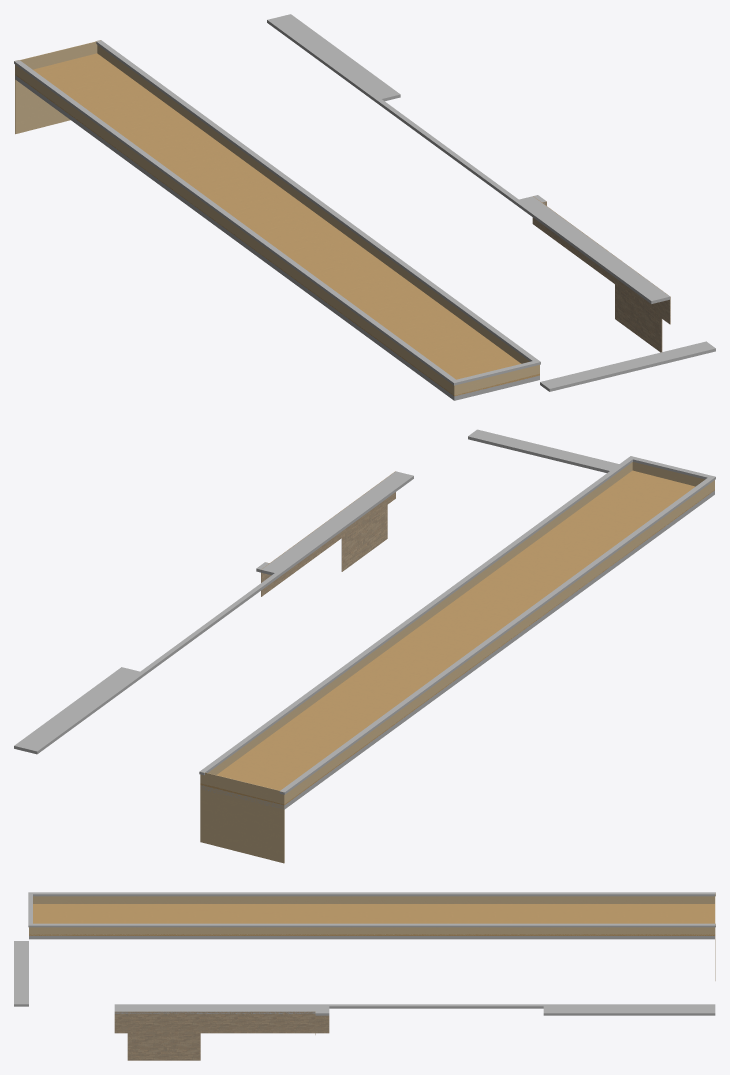
File: roof-bundle-service-north.glb
The picture shows the model from 3 angles, top to bottom: view 1: azimuth 30°, elevation 25°; view 2: azimuth 150°, elevation 25°; view 3: azimuth 270°, elevation 25°; orthographic projection. The views are drawn at different scales.
Parts seen in each view (by area): view 1: bz06_faded_ochre-receive, ph_bz04_stone_trim_sandstone-cast, bz06_sand_plaster-cast, bz06_service_stone-cast; view 2: bz06_faded_ochre-receive, ph_bz04_stone_trim_sandstone-cast, bz06_sand_plaster-cast, bz06_service_stone-cast; view 3: ph_bz04_stone_trim_sandstone-cast, bz06_faded_ochre-receive, bz06_sand_plaster-cast, bz06_service_stone-cast.
Boxes of the visible parts, left/top/right/bottom form: bz06_faded_ochre-receive: left=15, top=53, right=539, bottom=396; ph_bz04_stone_trim_sandstone-cast: left=14, top=14, right=715, bottom=400; bz06_sand_plaster-cast: left=15, top=40, right=539, bottom=395; bz06_service_stone-cast: left=532, top=196, right=670, bottom=352; bz06_faded_ochre-receive: left=200, top=470, right=714, bottom=805; ph_bz04_stone_trim_sandstone-cast: left=14, top=429, right=715, bottom=809; bz06_sand_plaster-cast: left=200, top=462, right=714, bottom=863; bz06_service_stone-cast: left=261, top=471, right=395, bottom=596; ph_bz04_stone_trim_sandstone-cast: left=14, top=892, right=715, bottom=1015; bz06_faded_ochre-receive: left=29, top=904, right=715, bottom=935; bz06_sand_plaster-cast: left=29, top=893, right=715, bottom=980; bz06_service_stone-cast: left=114, top=1011, right=329, bottom=1060.
Bounding box in the file's own units: 11.63 × 3.33 × 32.73.
5 materials, 4 textured.
